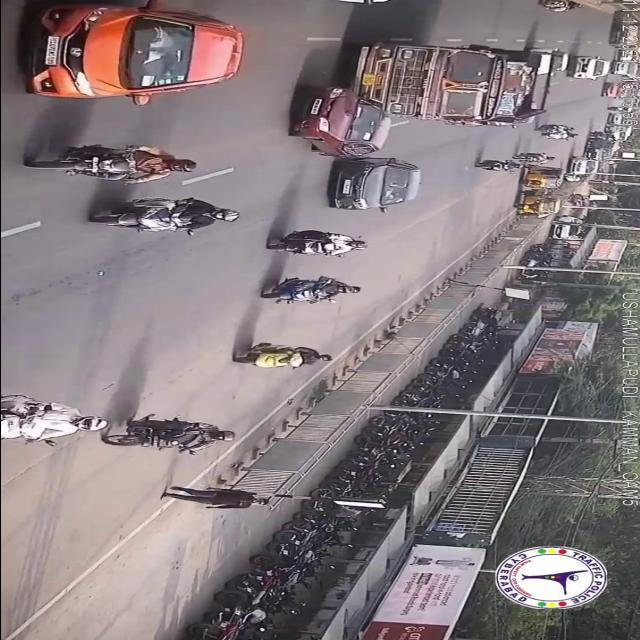accident: (280, 39, 560, 157)
non_accident: (565, 131, 619, 183), (531, 121, 579, 143)
